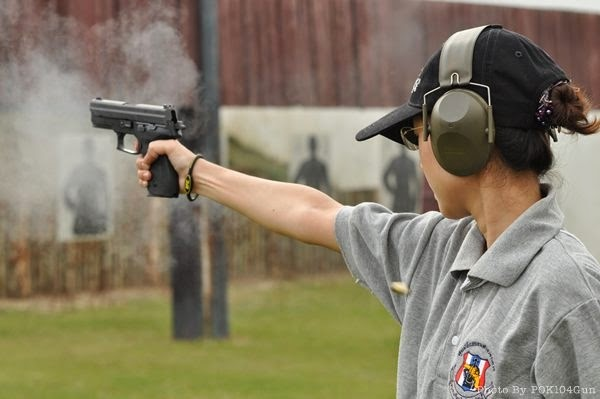gun: (83, 92, 196, 206)
